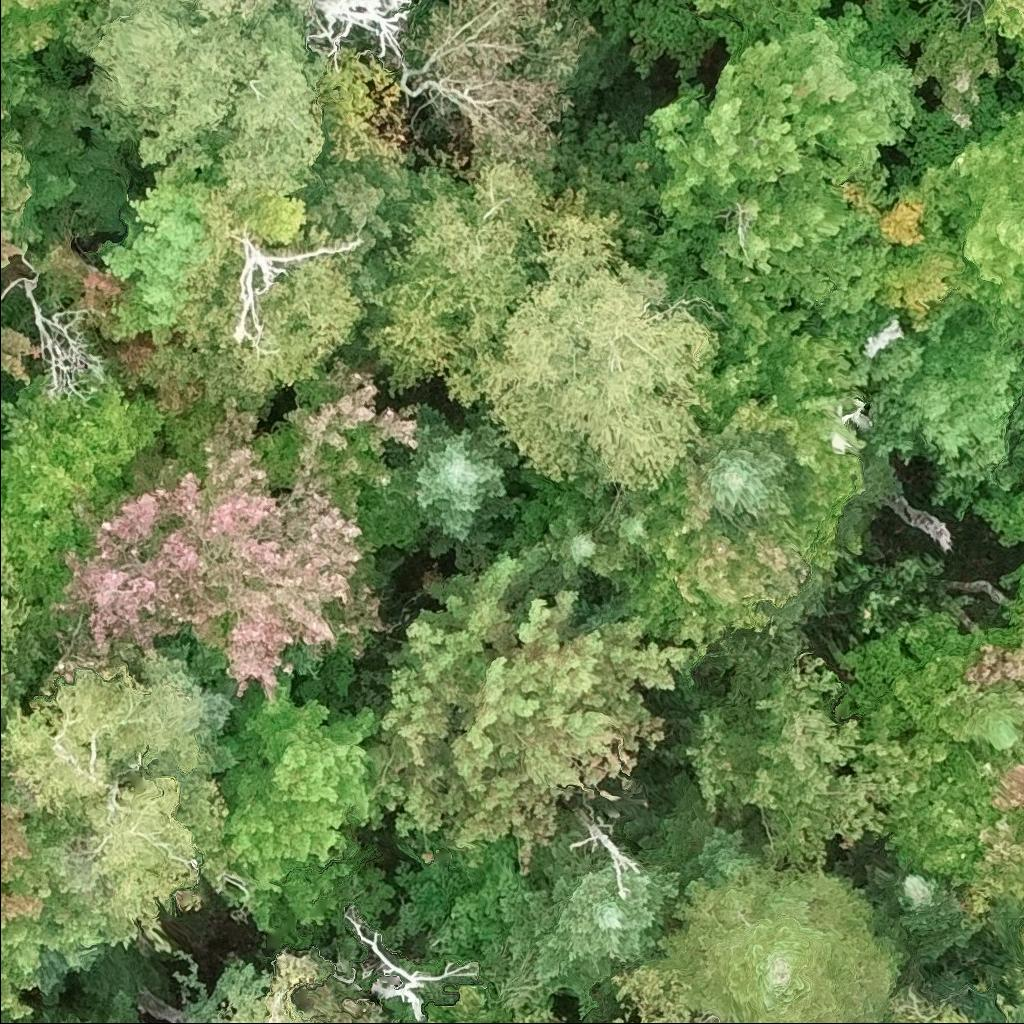crown: (50, 355, 429, 703), (361, 153, 721, 501), (360, 540, 698, 878), (616, 0, 919, 357), (594, 389, 869, 660), (0, 643, 233, 948), (665, 630, 950, 873), (70, 0, 323, 244), (147, 179, 372, 409), (216, 675, 393, 933), (650, 858, 908, 1023), (0, 373, 169, 606), (498, 813, 685, 1009), (865, 271, 1023, 467), (827, 596, 1023, 748), (881, 744, 1023, 929), (913, 98, 1023, 335), (0, 786, 108, 1018), (100, 140, 215, 342), (405, 406, 520, 568), (633, 771, 768, 900), (232, 238, 367, 354), (0, 523, 78, 720), (0, 269, 109, 406), (506, 476, 605, 595), (858, 865, 973, 965), (693, 416, 797, 522), (300, 0, 424, 71), (688, 0, 841, 52), (0, 53, 35, 267), (600, 959, 714, 1023), (0, 0, 94, 58), (0, 988, 152, 1023), (961, 684, 1023, 756), (586, 488, 658, 547), (187, 0, 311, 26), (0, 323, 43, 386), (979, 0, 1023, 39), (888, 1004, 978, 1023), (502, 1003, 567, 1023), (1022, 920, 1023, 943)
